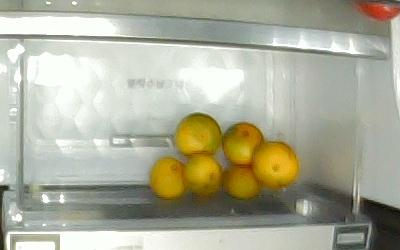tangerine: (250, 142, 299, 189), (174, 113, 222, 157), (222, 122, 264, 166), (184, 154, 222, 195), (148, 157, 185, 198), (223, 166, 259, 198)
